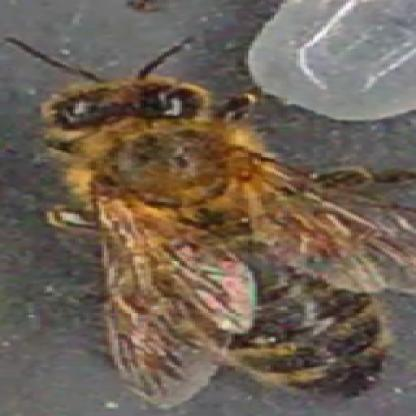bee: (35, 80, 402, 389)
